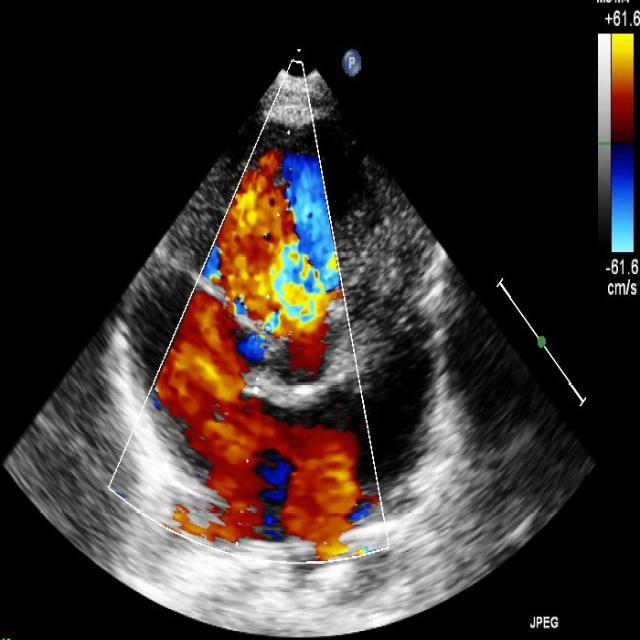VSDType2: (263, 240, 332, 372)
